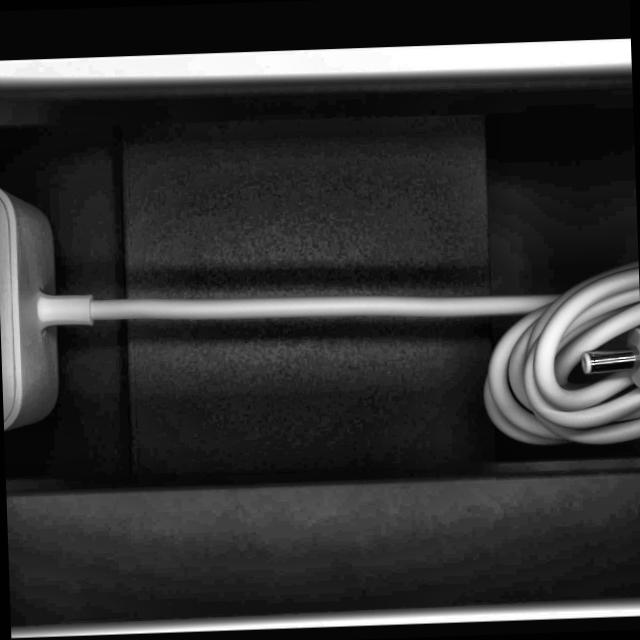Cable: (0, 154, 640, 473)
